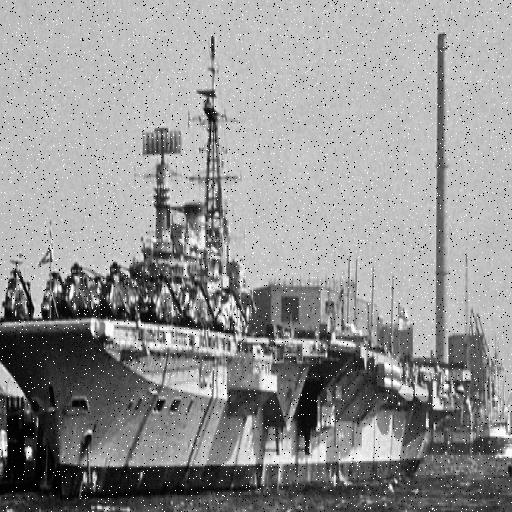Portanaves: (1, 26, 469, 499)
